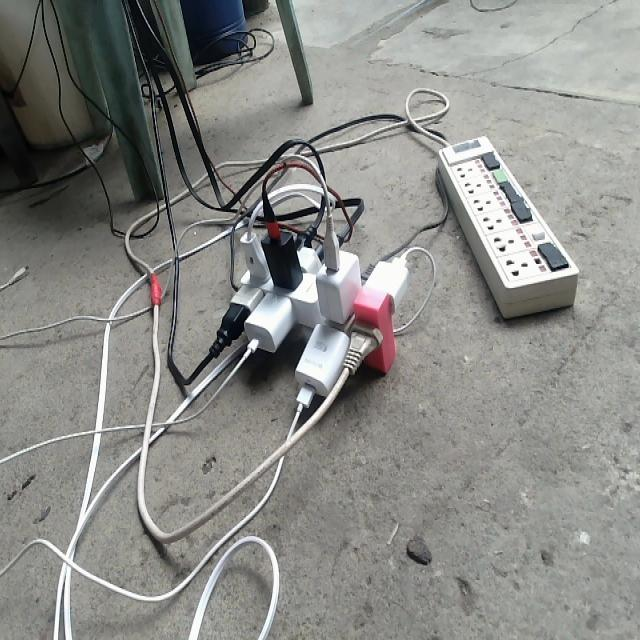-: (220, 215, 410, 408)
